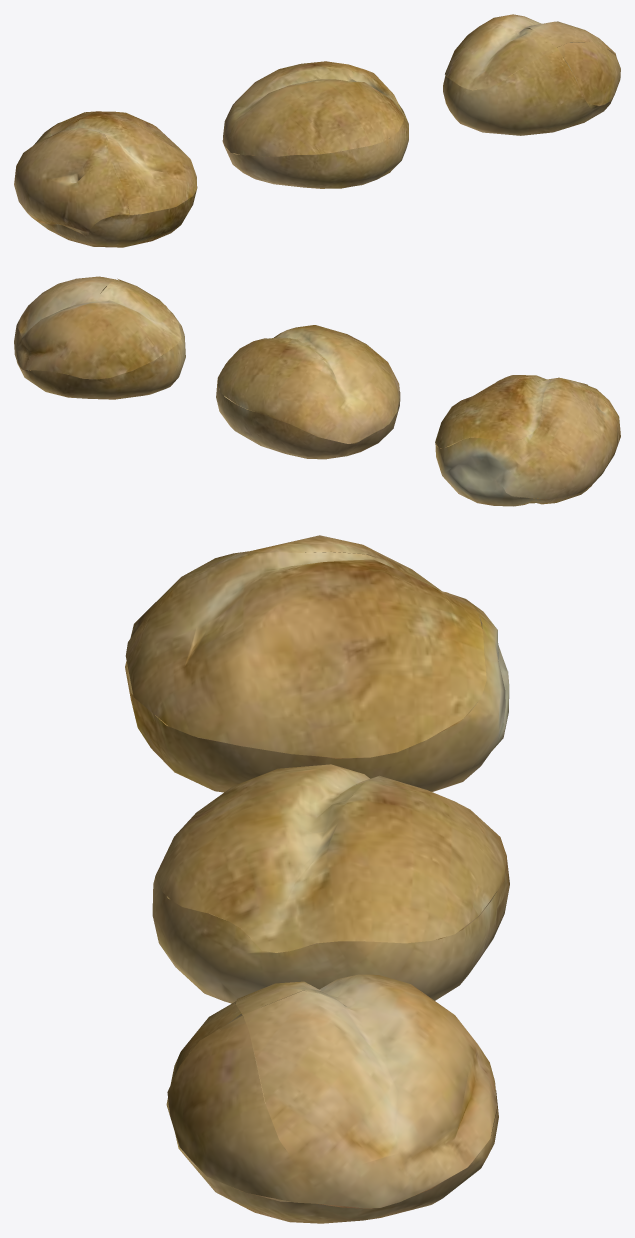
The model's file is hamburger_buns.glb.
The picture shows the model from 3 angles, top to bottom: view 1: azimuth 30°, elevation 25°; view 2: azimuth 150°, elevation 25°; view 3: azimuth 270°, elevation 25°; orthographic projection. The views are drawn at different scales.
Parts seen in each view (by area): view 1: hamburger_buns_01, hamburger_buns_02, hamburger_buns_03; view 2: hamburger_buns_01, hamburger_buns_02, hamburger_buns_03; view 3: hamburger_buns_01, hamburger_buns_02, hamburger_buns_03.
Boxes of the visible parts, x1,y1,x2,y2 form: hamburger_buns_01: (14, 111, 197, 247); hamburger_buns_02: (222, 61, 408, 188); hamburger_buns_03: (443, 14, 620, 135); hamburger_buns_01: (435, 375, 620, 506); hamburger_buns_02: (216, 325, 400, 459); hamburger_buns_03: (14, 276, 185, 399); hamburger_buns_01: (125, 535, 509, 792); hamburger_buns_02: (152, 764, 509, 1003); hamburger_buns_03: (166, 974, 498, 1223).
Bounding box in the file's own units: 0.3969 × 0.0637 × 0.1138.
1 material, 1 textured.
